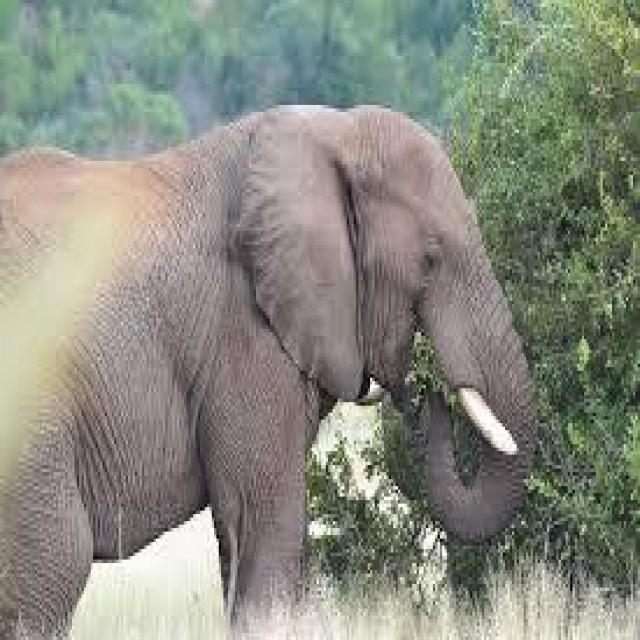Elephant: (0, 101, 535, 636)
